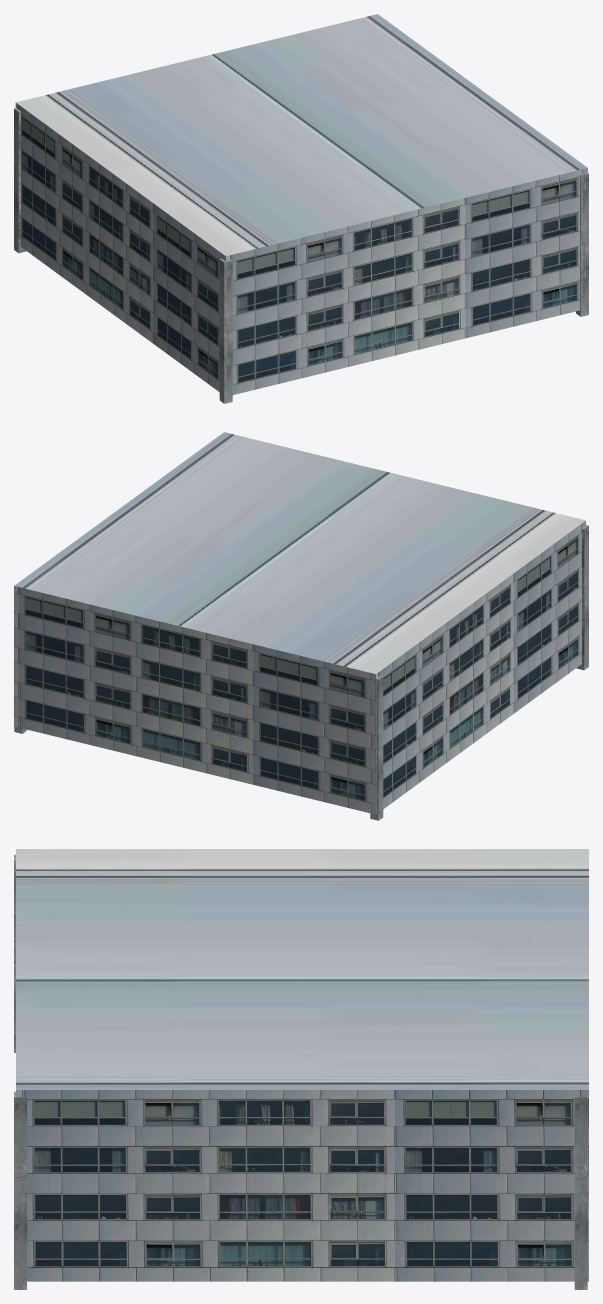
File: BagSS06mid_0.fbx
3 views of the same model, one above another, from view 1: azimuth 30°, elevation 25°; view 2: azimuth 150°, elevation 25°; view 3: azimuth 270°, elevation 25° (orthographic). The views are drawn at different scales.
Visible parts, largest first — view 1: baseBox0, midBeams0; view 2: baseBox0, midBeams0; view 3: baseBox0, midBeams0.
Part boxes in pixels (left/top/right/bottom): baseBox0: left=15, top=14, right=587, bottom=394; midBeams0: left=14, top=108, right=588, bottom=403; baseBox0: left=14, top=432, right=585, bottom=814; midBeams0: left=14, top=525, right=588, bottom=820; baseBox0: left=16, top=849, right=588, bottom=1281; midBeams0: left=14, top=854, right=587, bottom=1289.
Bounding box in the file's own units: 40.15 × 15.43 × 40.25.
